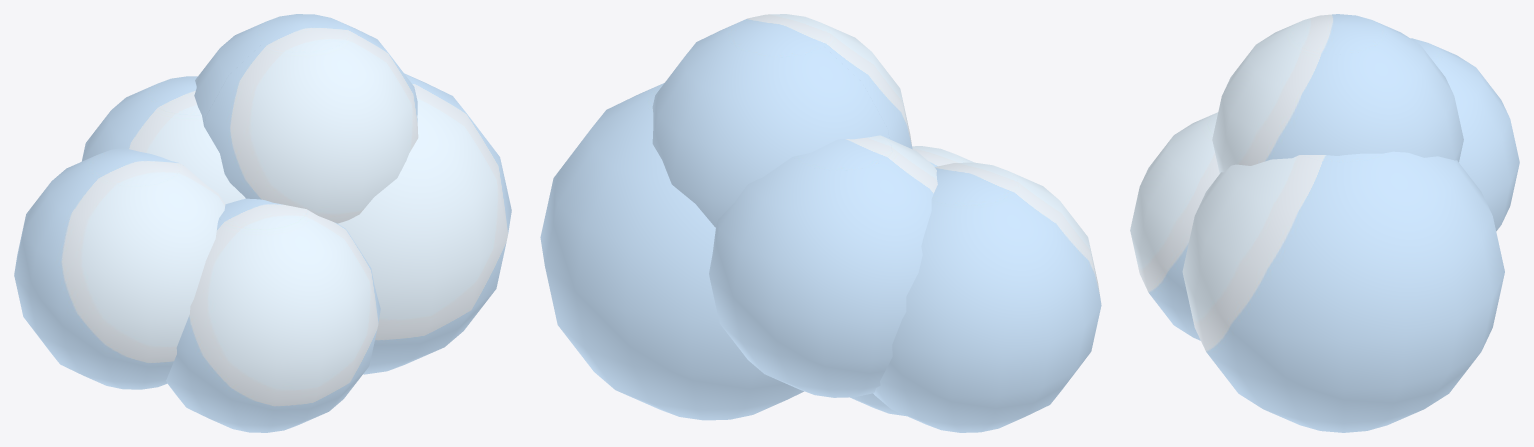
File: cloud3.glb
3 views of the same model, side by side, from view 1: azimuth 30°, elevation 25°; view 2: azimuth 150°, elevation 25°; view 3: azimuth 270°, elevation 25° (orthographic). The views are drawn at different scales.
Visible parts, largest first — view 1: Sphere; view 2: Sphere; view 3: Sphere.
Boxes of the visible parts, <box> form: Sphere: <box>14,14,511,432</box>; Sphere: <box>540,14,1101,432</box>; Sphere: <box>1130,14,1519,432</box>.
Bounding box in the file's own units: 88.47 × 63.74 × 61.94.
Materials: 1 (1 with a texture image).
